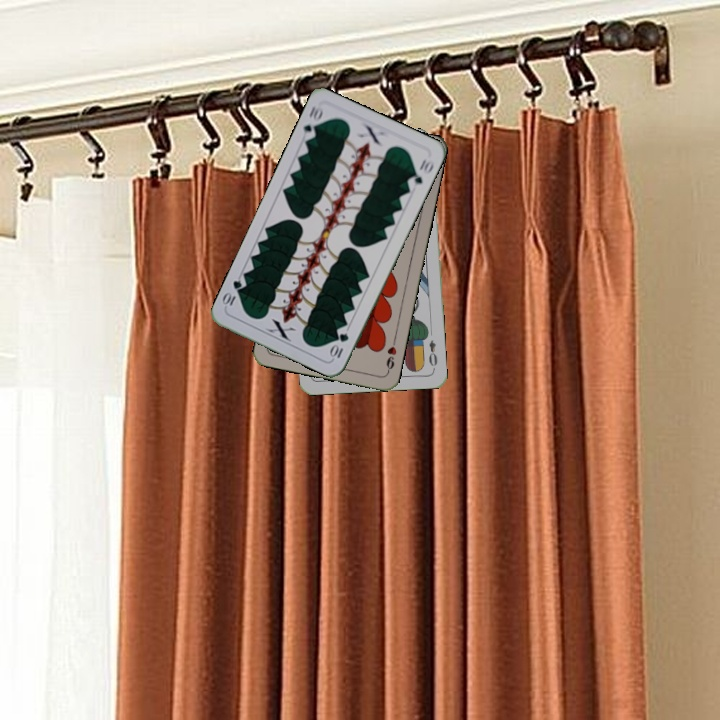EO: (425, 336, 440, 372)
G10: (299, 102, 326, 142), (326, 329, 351, 361)
H9: (382, 335, 399, 375)
